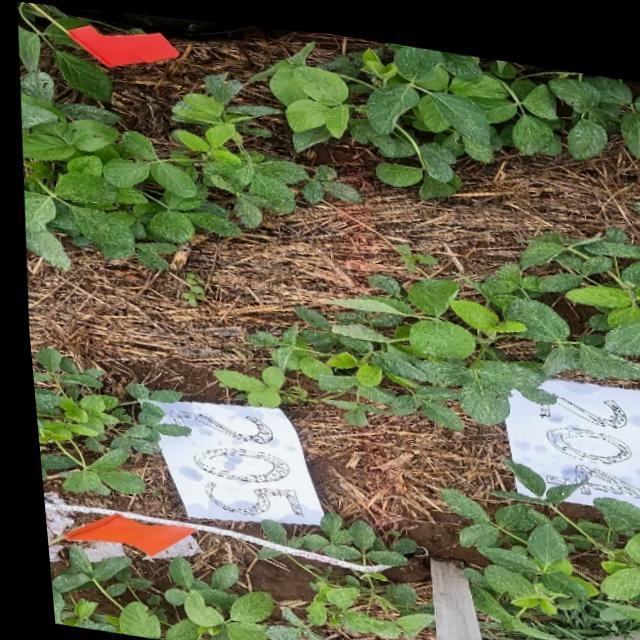grassy_weed: (459, 564, 636, 640)
soy_plant: (17, 1, 640, 267), (210, 214, 640, 420), (436, 452, 640, 623), (41, 558, 418, 640), (25, 349, 176, 491), (254, 508, 407, 558)
